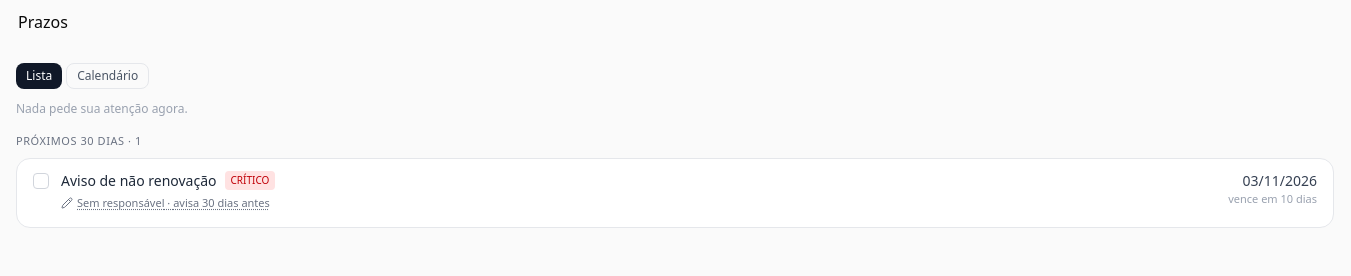
Radar page › reloads the alerts after an owner or lead time changes
Click the button "Sem responsável · avisa 30 dias antes" at (165, 203), box [61,194,270,211]
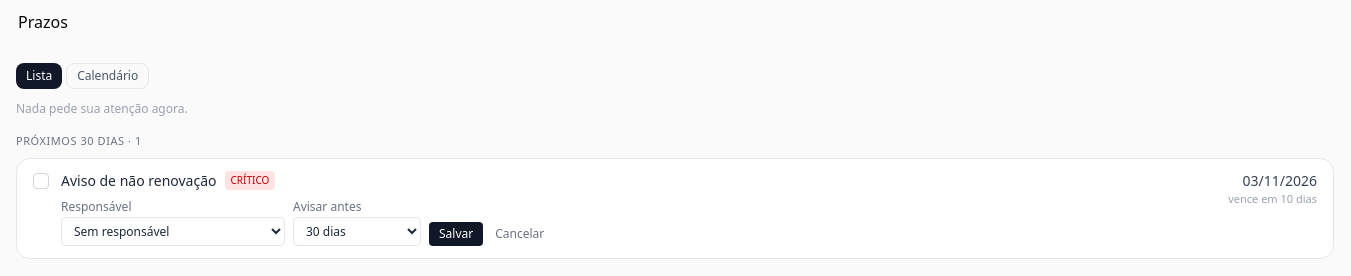
Select "Bia" in the dropdown labelled "Responsável" at (173, 231), box [61,216,285,246]
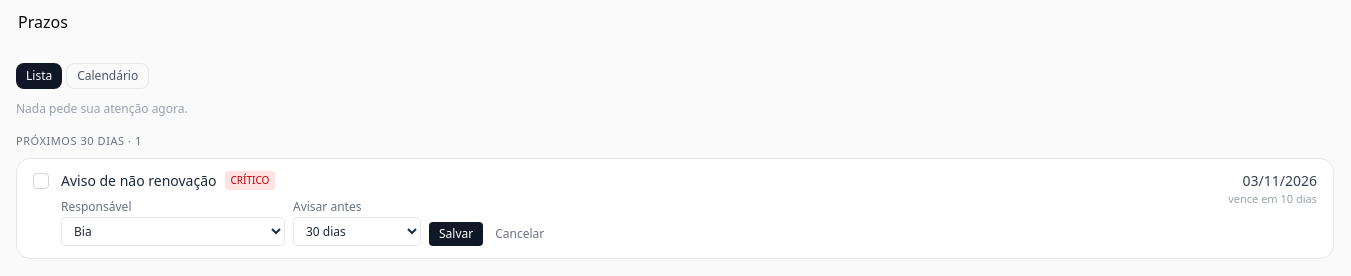
Select "Outro…" in the dropdown labelled "Avisar antes" at (357, 231), box [293,216,421,246]
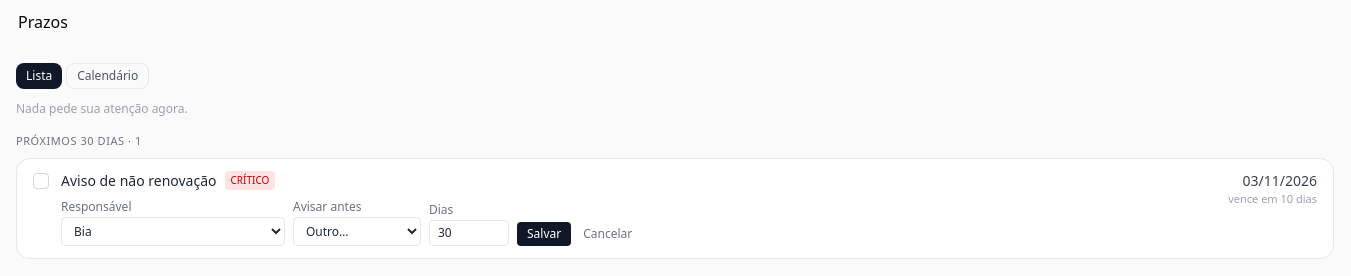
Replace the text in the field labelled "Dias" with "5" at (469, 232), box [429,220,509,246]
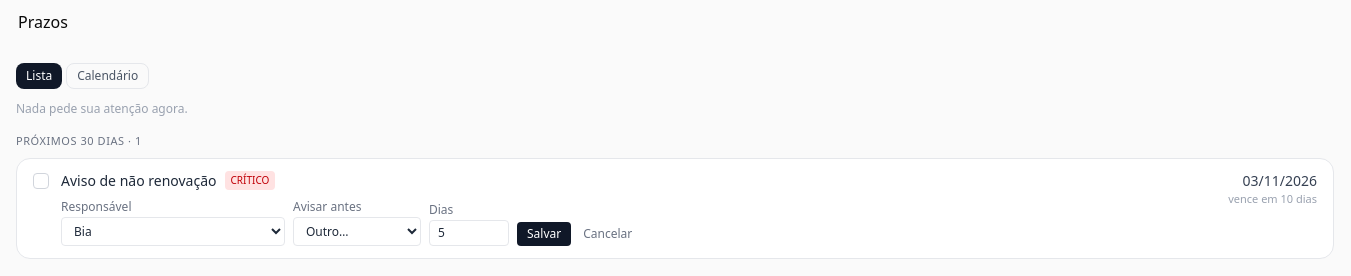
Click the button "Salvar" at (544, 234), box [517,222,571,246]
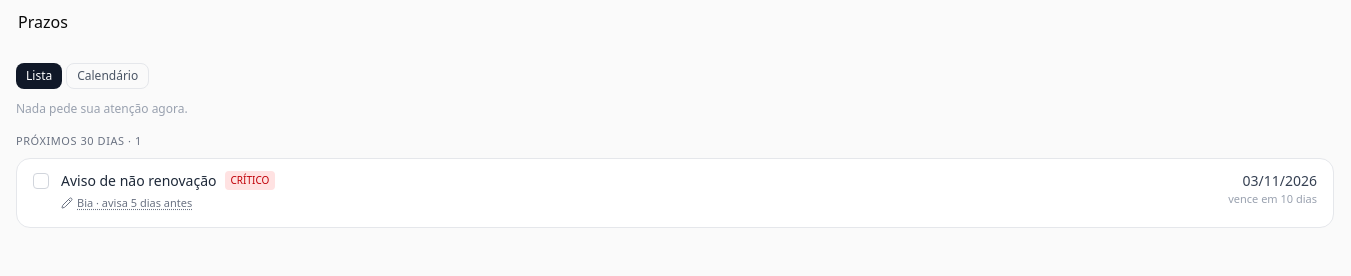
Check: the button "Bia · avisa 5 dias antes" is shown, box [61,194,192,211]
